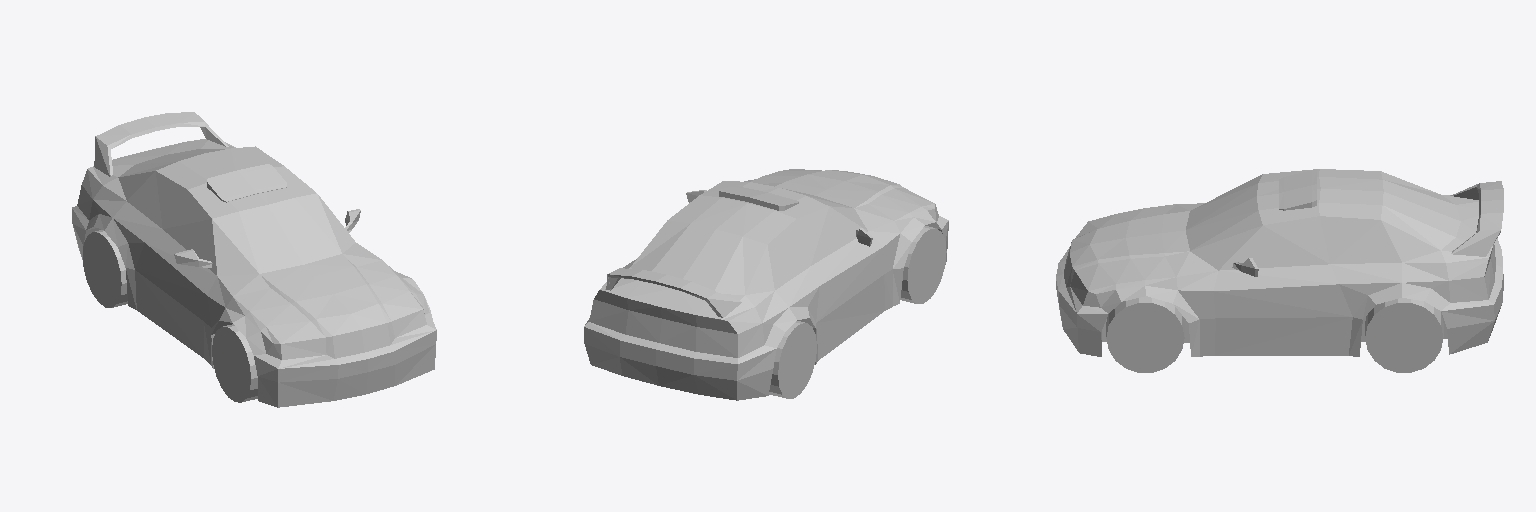
The model's file is bmw.obj.
The picture shows the model from 3 angles: view 1: azimuth 30°, elevation 25°; view 2: azimuth 150°, elevation 25°; view 3: azimuth 270°, elevation 25°; orthographic projection.
Visible parts, largest first — view 1: bmw; view 2: bmw; view 3: bmw.
Part boxes in pixels (bbox=[...]): bmw: bbox=[72, 112, 436, 407]; bmw: bbox=[584, 169, 948, 400]; bmw: bbox=[1056, 169, 1503, 372].
Size of the model in its own units: 49.23 by 36.57 by 103.